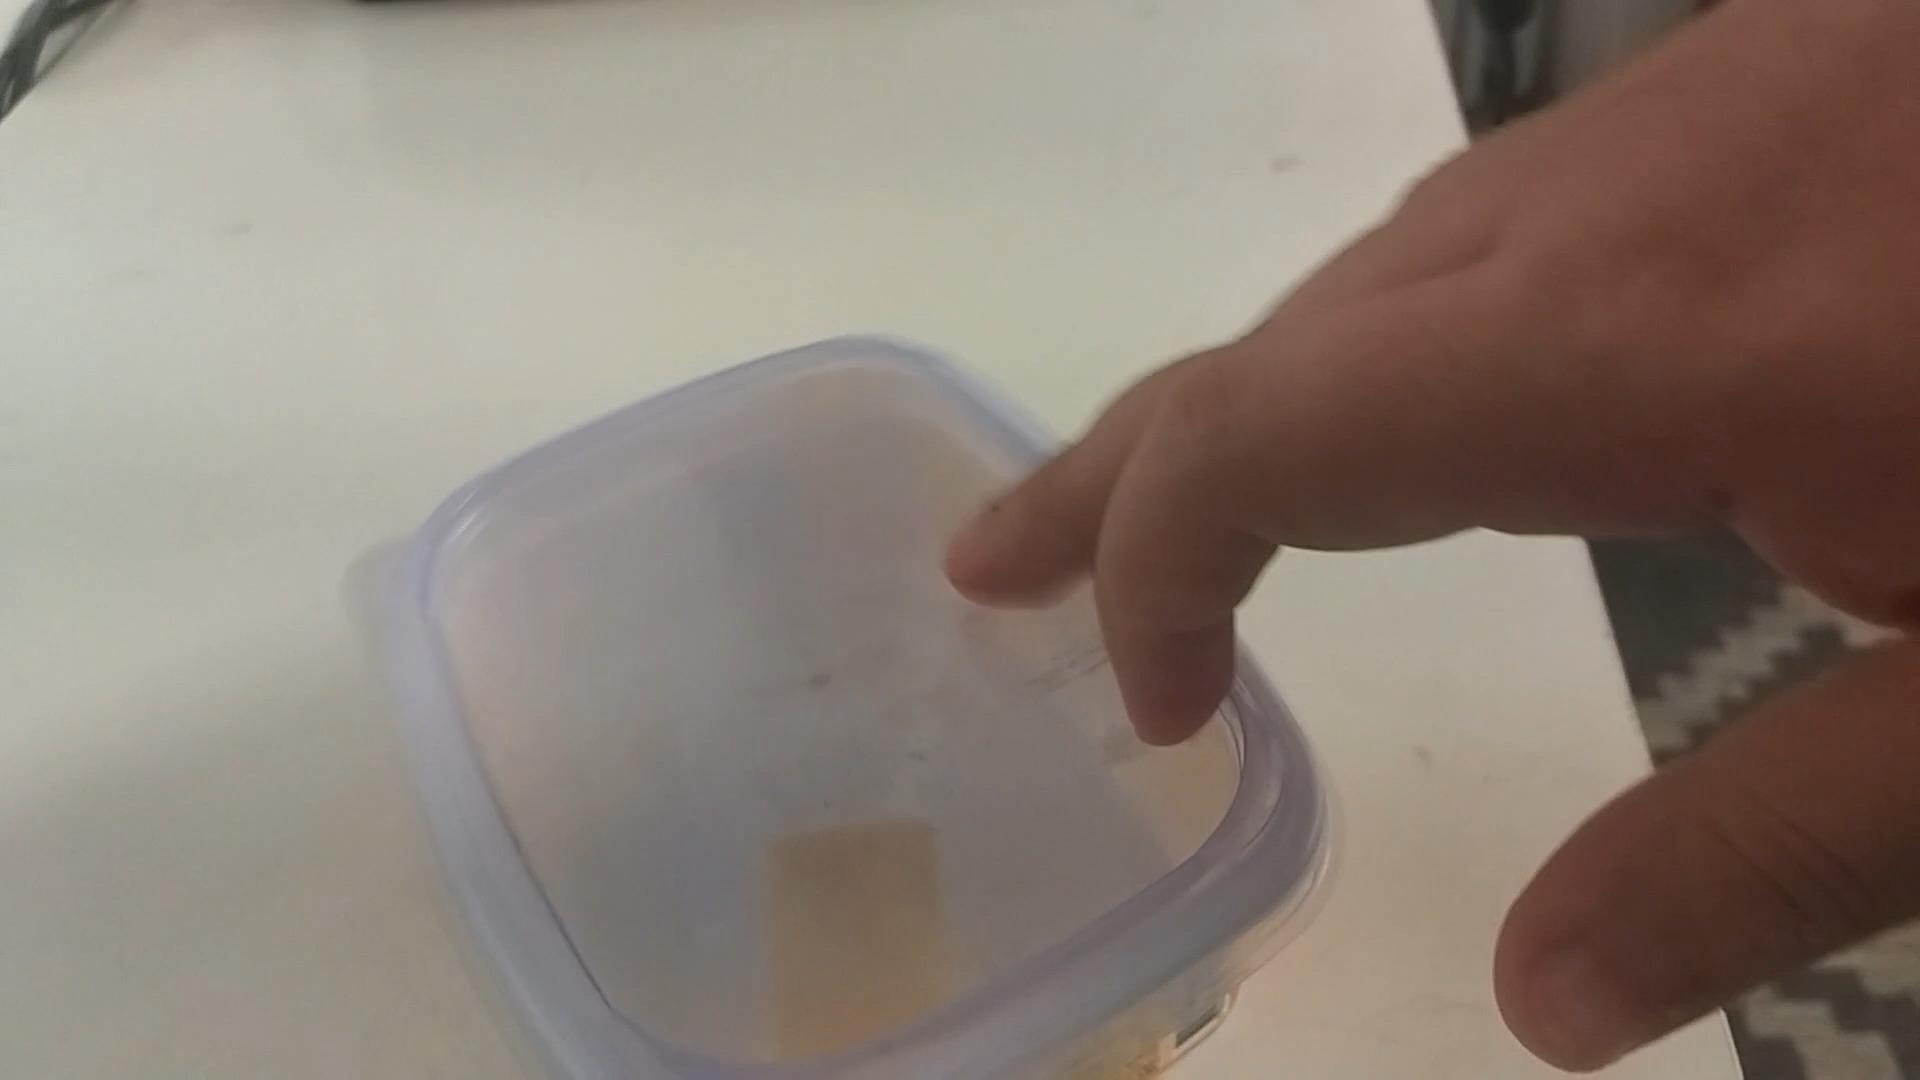butter: (367, 335, 1329, 1079)
